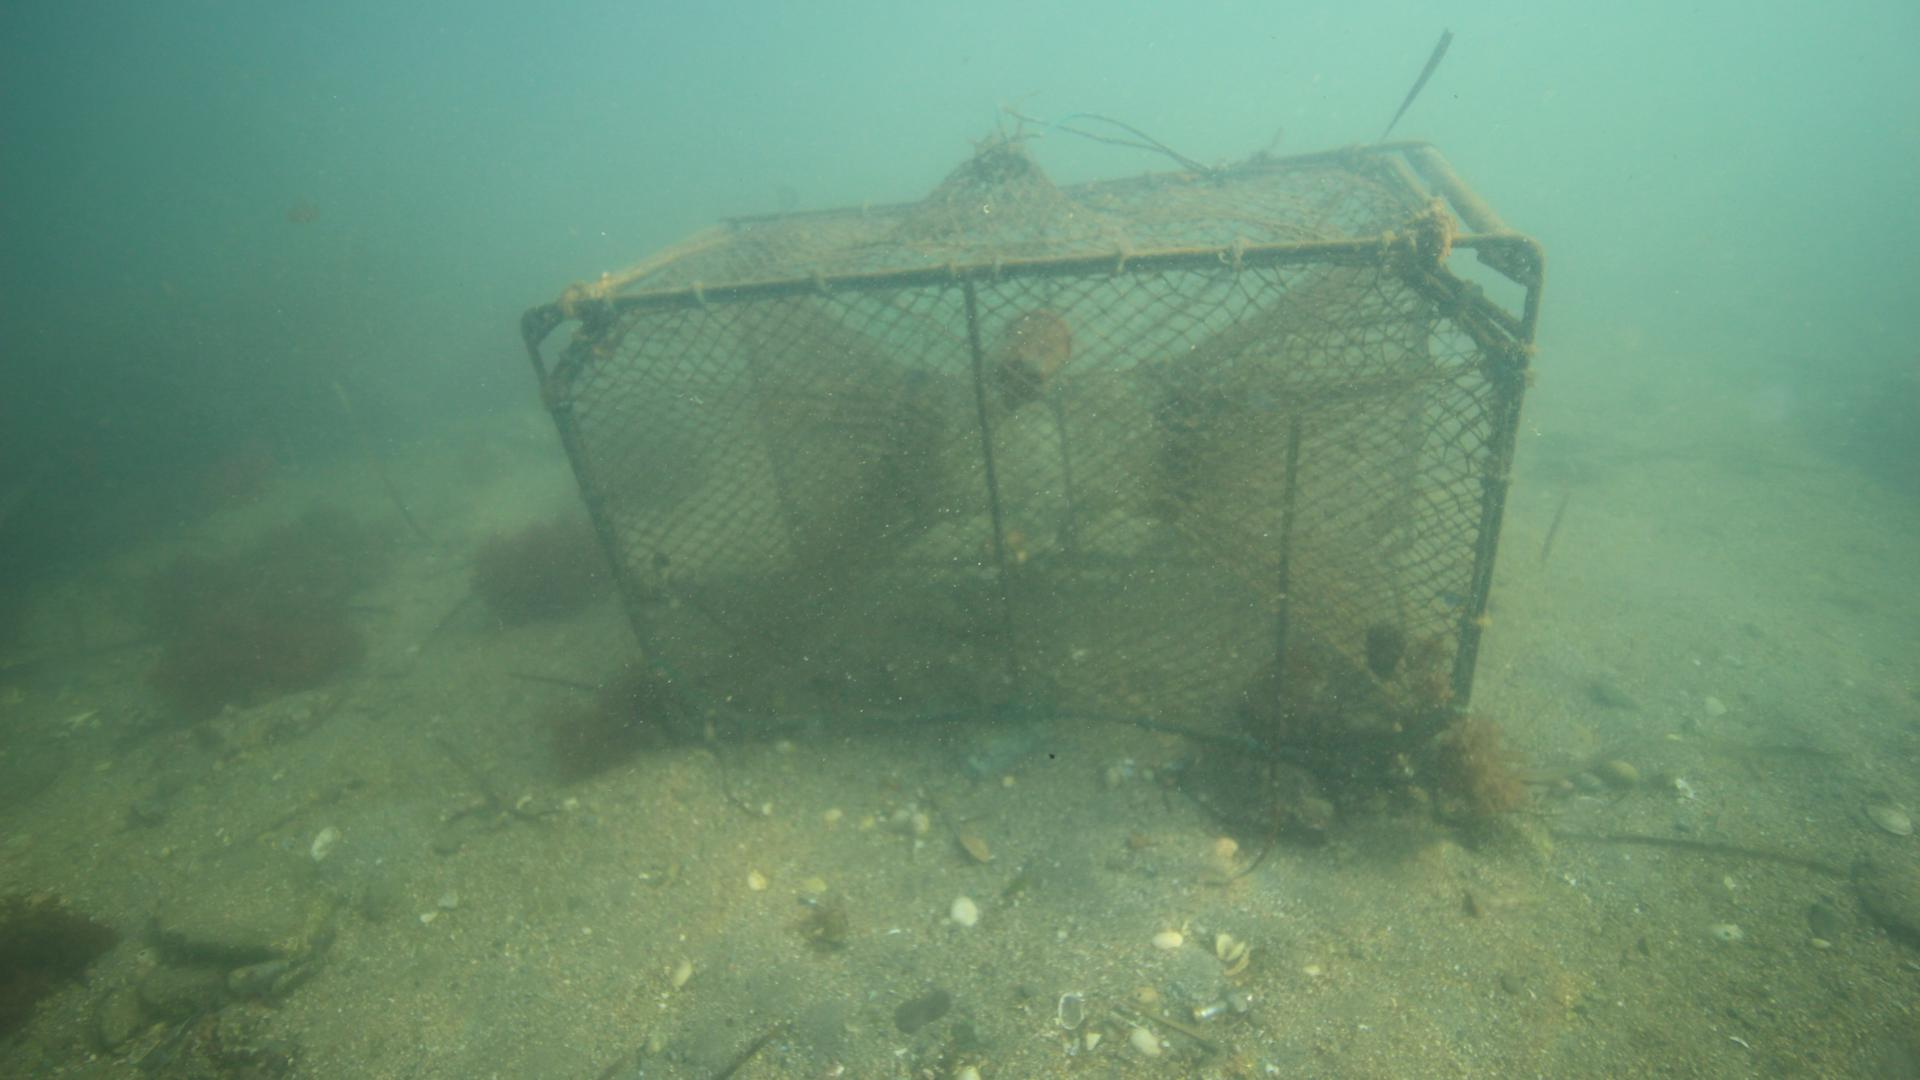rectangular fish trap: (512, 135, 1545, 769)
